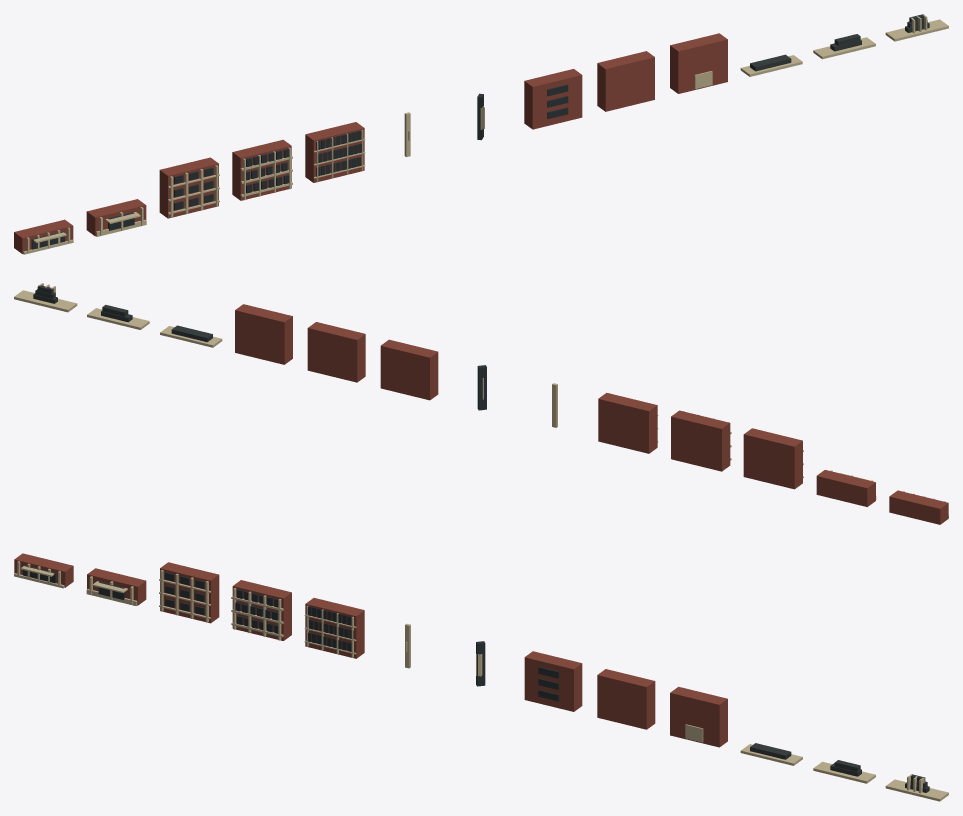
Rendered from chicago-school-masonry.glb.
The picture shows the model from 3 angles, top to bottom: view 1: azimuth 30°, elevation 25°; view 2: azimuth 150°, elevation 25°; view 3: azimuth 330°, elevation 25°; orthographic projection.
Parts seen in each view (by area): view 1: middle-wall (×3), party-wall, rear-wall, exposed-wall, base-shell (×2), cornice; view 2: middle-wall (×3), base-shell (×2), party-wall, exposed-wall, rear-wall, cornice; view 3: middle-wall (×3), party-wall, rear-wall, exposed-wall, base-shell (×2).
Part boxes in pixels (x1,y1,x2,y2): middle-wall (×3): (159, 122, 364, 218); party-wall: (597, 51, 654, 111); rear-wall: (670, 33, 727, 93); exposed-wall: (524, 69, 582, 129); base-shell (×2): (14, 199, 146, 253); cornice: (885, 19, 948, 41); middle-wall (×3): (598, 392, 802, 489); base-shell (×2): (816, 470, 948, 524); party-wall: (307, 322, 365, 382); exposed-wall: (380, 339, 438, 400); rear-wall: (235, 304, 292, 364); cornice: (14, 290, 77, 312); middle-wall (×3): (160, 562, 364, 658); party-wall: (597, 669, 655, 729); rear-wall: (670, 686, 727, 747); exposed-wall: (524, 651, 582, 711); base-shell (×2): (14, 553, 146, 605).
Bounding box in the file's own units: 63.61 × 2.8 × 1.6.
